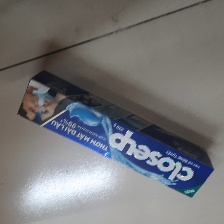CloseUp Tuyet: (17, 71, 215, 197)
